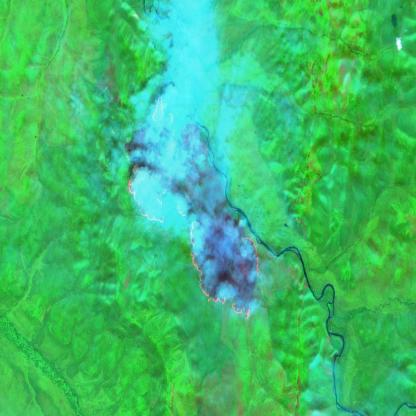fire: (126, 89, 264, 324)
